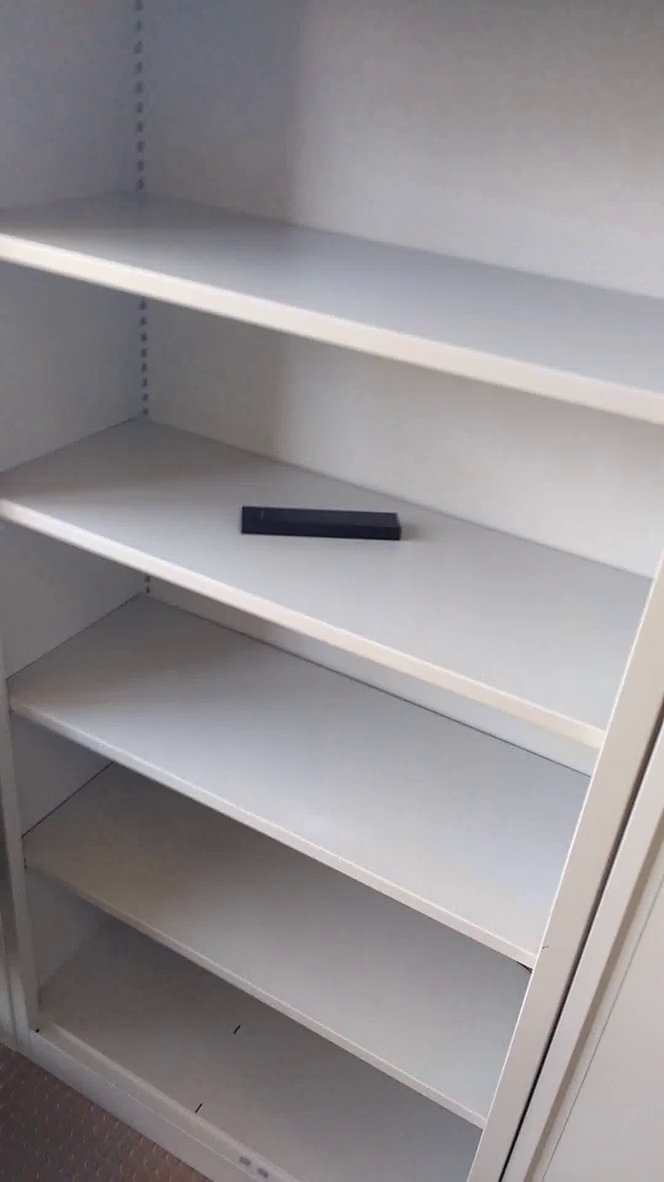remote: (229, 501, 412, 551)
